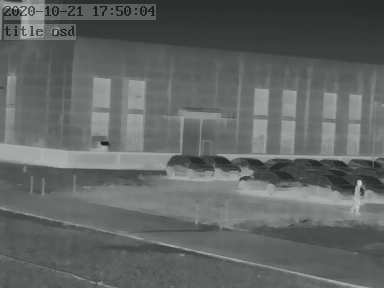person: (350, 180, 365, 213)
vehicle: (304, 173, 353, 203), (238, 170, 302, 192), (164, 153, 213, 179), (204, 153, 242, 177), (231, 154, 264, 173), (258, 155, 295, 171), (345, 155, 381, 170), (316, 156, 349, 170), (296, 156, 326, 169)
